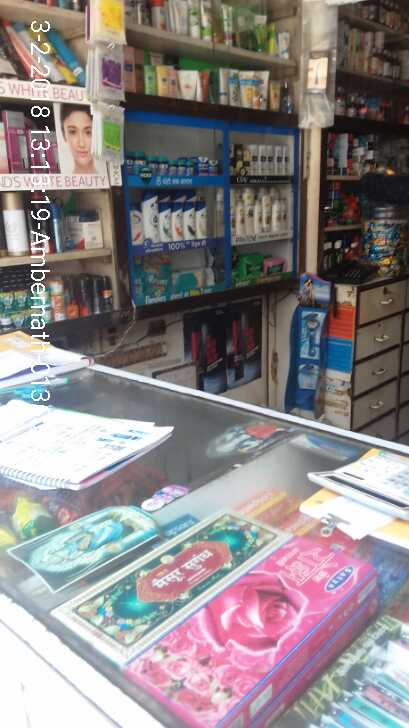beauty: (227, 185, 288, 235), (232, 140, 301, 172), (291, 307, 322, 363), (141, 193, 157, 246), (181, 202, 194, 239), (157, 206, 169, 241), (170, 201, 181, 239), (196, 205, 207, 242)
pharmacy: (121, 145, 218, 171), (139, 246, 170, 297), (236, 250, 264, 278), (260, 254, 281, 268)
